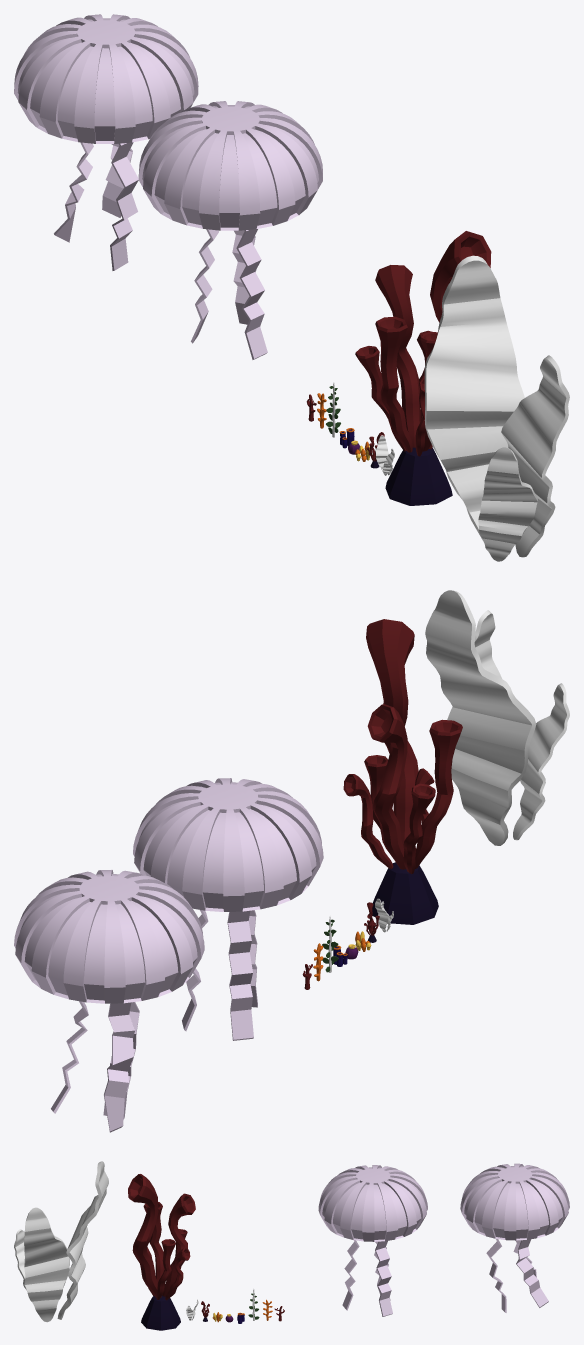
Rendered from Смачный_океан_я_не_хочу_печь_текстуры_пожалуйста.fbx.
The picture shows the model from 3 angles, top to bottom: view 1: azimuth 30°, elevation 25°; view 2: azimuth 150°, elevation 25°; view 3: azimuth 270°, elevation 25°; orthographic projection. The views are drawn at different scales.
Visible parts, largest first — view 1: Plane.016, Cylinder, Cylinder.001, Cube.001, Plane, Plane.039, Plane.040, Plane.037, Plane.041, Plane.038; view 2: Cylinder.001, Cylinder, Plane.016, Cube.001, Plane.037, Plane.040, Plane.041; view 3: Cylinder.001, Cylinder, Plane.016, Cube.001, Plane.038, Plane.041, Plane, Plane.039.
Part boxes in pixels (bbox=[...]): Plane.016: bbox=[424, 255, 569, 561]; Cylinder: bbox=[138, 101, 322, 230]; Cylinder.001: bbox=[14, 14, 198, 143]; Cube.001: bbox=[355, 231, 491, 505]; Plane: bbox=[236, 229, 267, 359]; Plane.039: bbox=[110, 142, 138, 270]; Plane.040: bbox=[54, 142, 93, 242]; Plane.037: bbox=[191, 229, 218, 343]; Plane.041: bbox=[102, 144, 132, 217]; Plane.038: bbox=[232, 230, 256, 324]; Cylinder.001: bbox=[14, 870, 204, 1003]; Cylinder: bbox=[133, 778, 323, 911]; Plane.016: bbox=[425, 590, 569, 845]; Cube.001: bbox=[343, 619, 462, 924]; Plane.037: bbox=[227, 910, 253, 1040]; Plane.040: bbox=[104, 1002, 135, 1132]; Plane.041: bbox=[51, 1001, 88, 1113]; Cylinder.001: bbox=[460, 1163, 569, 1240]; Cylinder: bbox=[318, 1165, 427, 1241]; Plane.016: bbox=[14, 1161, 108, 1322]; Cube.001: bbox=[128, 1174, 195, 1330]; Plane.038: bbox=[375, 1241, 392, 1316]; Plane.041: bbox=[516, 1239, 548, 1307]; Plane: bbox=[342, 1240, 359, 1310]; Plane.039: bbox=[486, 1239, 506, 1312].
Size of the model in its own units: 1675 by 2667 by 8258.
